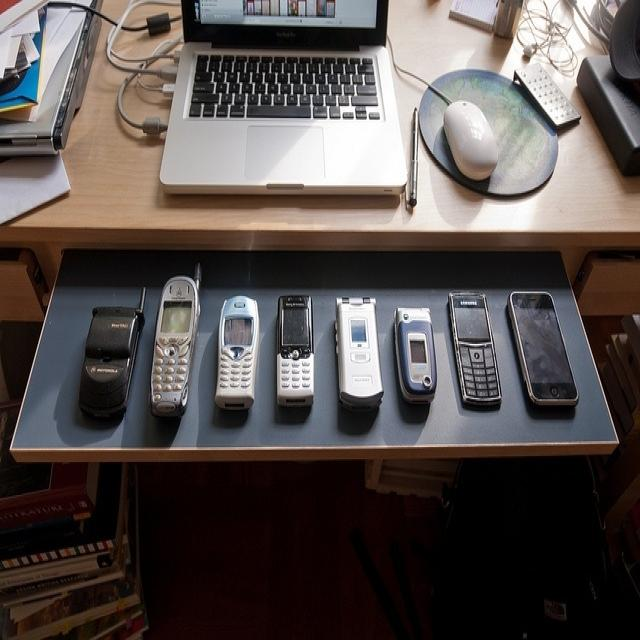Cable: (51, 0, 181, 168), (510, 0, 584, 73)
E-waste: (70, 262, 609, 450), (159, 0, 407, 212), (429, 86, 500, 195)
